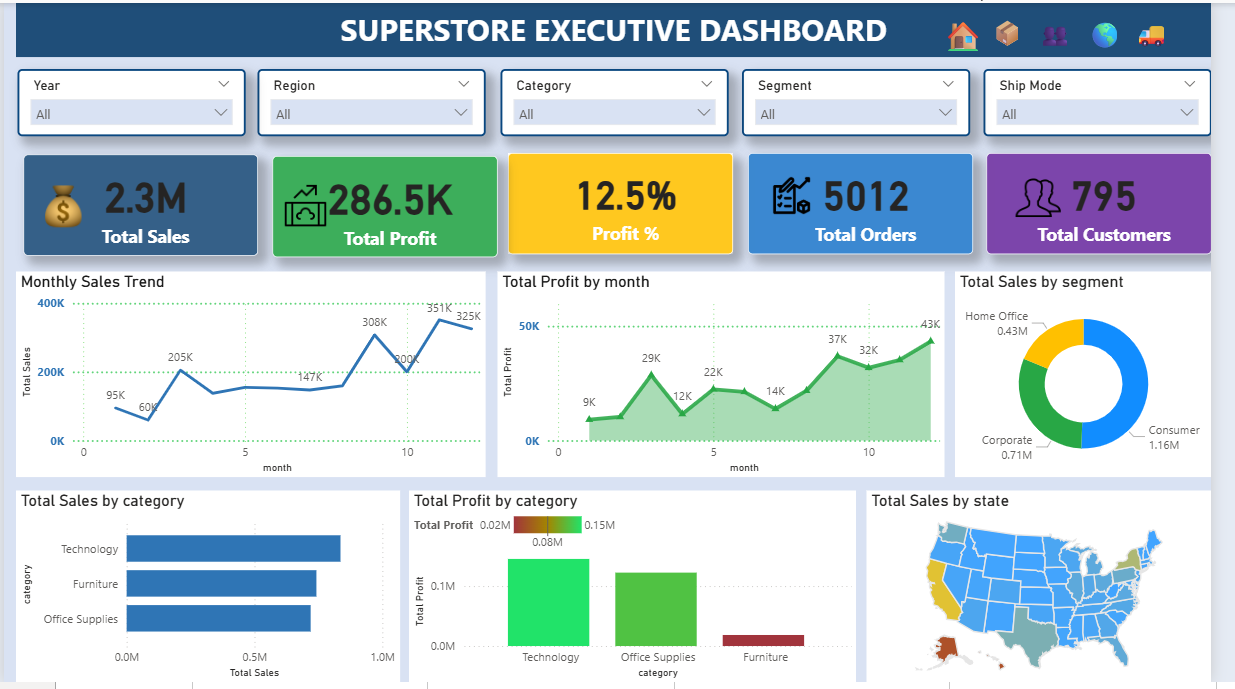

What the dashboard file says about the page in this screenshot:
{"tool":"powerbi","page":{"name":"Executive","canvas":[1280,720],"ordinal":0},"visuals":[{"type":"textbox","box":[12.7,0,1267.7,57.3],"z":0},{"type":"actionButton","box":[991,7.9,50.9,47.8],"z":0,"group":"g7"},{"type":"card","fields":{"Values":["Measures (2).Total Orders"]},"box":[789.4,159.1,238.8,107.1],"z":0,"group":"g4"},{"type":"card","fields":{"Values":["Measures (2).Profit %"]},"box":[534.8,159.2,238.8,107.1],"z":0,"group":"g3"},{"type":"card","fields":{"Values":["Measures (2).Total Customers"]},"box":[1041.6,159.7,238.8,107.1],"z":0,"group":"g5"},{"type":"card","fields":{"Values":["Measures (2).Total Sales"]},"box":[20.7,160.9,248.4,107.1],"z":0,"group":"g2"},{"type":"card","fields":{"Values":["Measures (2).Total Profit"]},"box":[285.1,161.7,238.8,107.1],"z":0,"group":"g6"},{"type":"actionButton","box":[1041.9,6.4,50.9,47.8],"z":1000,"group":"g7"},{"type":"slicer","fields":{"Values":["fact_sales.region"]},"box":[268.8,70,241.8,71.6],"z":1000},{"type":"image","box":[30.3,179.8,65,70.9],"z":1000,"group":"g2"},{"type":"actionButton","box":[1092.8,7.9,52.5,44.7],"z":2000,"group":"g7"},{"type":"slicer","fields":{"Values":["dim_date.year"]},"box":[14.3,70,241.8,71.6],"z":2000},{"type":"actionButton","box":[1145.3,7.9,49.3,49.4],"z":3000,"group":"g7"},{"type":"slicer","fields":{"Values":["dim_ship_mode.ship_mode"]},"box":[1038.7,70,241.8,71.6],"z":3000},{"type":"actionButton","box":[1194.6,7.9,65.2,47.8],"z":4000,"group":"g7"},{"type":"slicer","fields":{"Values":["dim_customer.segment"]},"box":[782.6,70,241.8,71.6],"z":4000},{"type":"slicer","fields":{"Values":["dim_product.category"]},"box":[526.5,70,241.8,71.6],"z":5000},{"type":"group","id":"g1","title":"Group 2","box":[20.7,159.1,1259.8,109.8],"z":6000},{"type":"group","id":"g2","title":"Group 1","box":[20.7,160.9,248.4,107.1],"z":6000,"group":"g1"},{"type":"group","id":"g3","title":"Group 1","box":[534.8,159.2,238.8,107.1],"z":7000,"group":"g1"},{"type":"image","box":[284.7,184.5,70,60.4],"z":7000},{"type":"image","box":[1059.6,176.6,74.5,58.3],"z":7001,"group":"g5"},{"type":"group","id":"g4","title":"Group 1","box":[789.4,159.1,238.8,107.1],"z":8000,"group":"g1"},{"type":"lineChart","title":"Monthly Sales Trend","fields":{"Y":["Measures (2).Total Sales"],"Category":["dim_date.month"]},"box":[12.7,284.7,497.9,217.9],"z":8000},{"type":"image","box":[802.2,176.9,66.9,55.1],"z":8001,"group":"g4"},{"type":"group","id":"g5","title":"Group 1","box":[1041.6,159.7,238.8,107.1],"z":9000,"group":"g1"},{"type":"areaChart","fields":{"Category":["dim_date.month"],"Y":["Measures (2).Total Profit"]},"box":[523.3,284.7,474,217.9],"z":9000},{"type":"clusteredBarChart","fields":{"Category":["dim_product.category"],"Y":["Measures (2).Total Sales"]},"box":[12.7,516.9,407.2,203.6],"z":10000},{"type":"group","id":"g6","title":"Group 1","box":[285.1,161.7,238.8,107.1],"z":11000,"group":"g1"},{"type":"clusteredColumnChart","fields":{"Y":["Measures (2).Total Profit"],"Category":["dim_product.category"]},"box":[429.5,516.9,474,203.6],"z":11000},{"type":"donutChart","fields":{"Category":["dim_customer.segment"],"Y":["Measures (2).Total Sales"]},"box":[1008.4,284.7,272,217.9],"z":12000},{"type":"shapeMap","fields":{"Category":["fact_sales.state"],"Value":["Measures (2).Total Sales"]},"box":[914.6,516.9,365.8,203.6],"z":13000},{"type":"group","id":"g7","title":"Group 3","box":[991,6.4,268.8,50.9],"z":14006}]}

Visuals, with their boxes in screenshot pixels (x1, y1, x2, y2), scaled from the page's 1280x720 canvas onto the 1235x689 screenshot:
textbox: x1=12 y1=0 x2=1234 y2=55
actionButton: x1=956 y1=8 x2=1005 y2=53
card - Measures (2).Total Orders: x1=762 y1=152 x2=992 y2=255
card - Measures (2).Profit %: x1=516 y1=152 x2=746 y2=255
card - Measures (2).Total Customers: x1=1005 y1=153 x2=1234 y2=255
card - Measures (2).Total Sales: x1=20 y1=154 x2=260 y2=256
card - Measures (2).Total Profit: x1=275 y1=155 x2=505 y2=257
actionButton: x1=1005 y1=6 x2=1054 y2=52
slicer - fact_sales.region: x1=259 y1=67 x2=493 y2=136
image: x1=29 y1=172 x2=92 y2=240
actionButton: x1=1054 y1=8 x2=1105 y2=50
slicer - dim_date.year: x1=14 y1=67 x2=247 y2=136
actionButton: x1=1105 y1=8 x2=1153 y2=55
slicer - dim_ship_mode.ship_mode: x1=1002 y1=67 x2=1234 y2=136
actionButton: x1=1153 y1=8 x2=1216 y2=53
slicer - dim_customer.segment: x1=755 y1=67 x2=988 y2=136
slicer - dim_product.category: x1=508 y1=67 x2=741 y2=136
"Group 2" group: x1=20 y1=152 x2=1234 y2=257
"Group 1" group: x1=20 y1=154 x2=260 y2=256
"Group 1" group: x1=516 y1=152 x2=746 y2=255
image: x1=275 y1=177 x2=342 y2=234
image: x1=1022 y1=169 x2=1094 y2=225
"Group 1" group: x1=762 y1=152 x2=992 y2=255
"Monthly Sales Trend" lineChart: x1=12 y1=272 x2=493 y2=481
image: x1=774 y1=169 x2=839 y2=222
"Group 1" group: x1=1005 y1=153 x2=1234 y2=255
areaChart - dim_date.month x Measures (2).Total Profit: x1=505 y1=272 x2=962 y2=481
clusteredBarChart - dim_product.category x Measures (2).Total Sales: x1=12 y1=495 x2=405 y2=688
"Group 1" group: x1=275 y1=155 x2=505 y2=257
clusteredColumnChart - Measures (2).Total Profit x dim_product.category: x1=414 y1=495 x2=872 y2=688
donutChart - dim_customer.segment x Measures (2).Total Sales: x1=973 y1=272 x2=1234 y2=481
shapeMap - fact_sales.state x Measures (2).Total Sales: x1=882 y1=495 x2=1234 y2=688
"Group 3" group: x1=956 y1=6 x2=1216 y2=55
